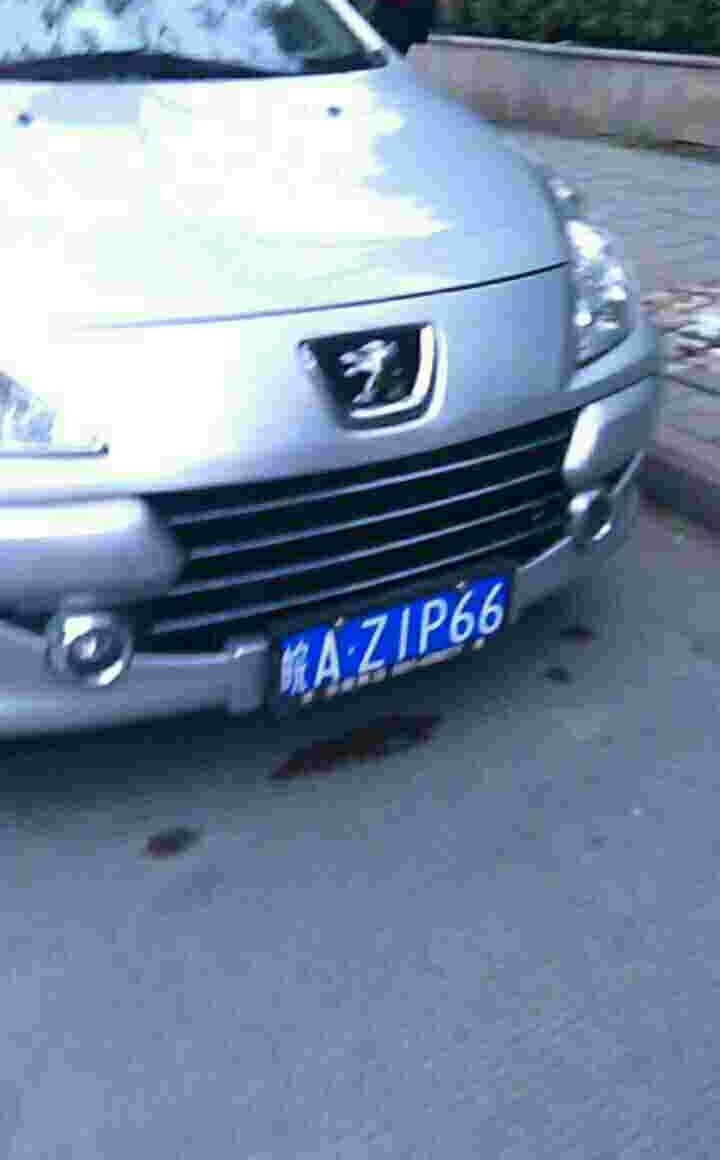license_plate: (279, 572, 513, 696)
